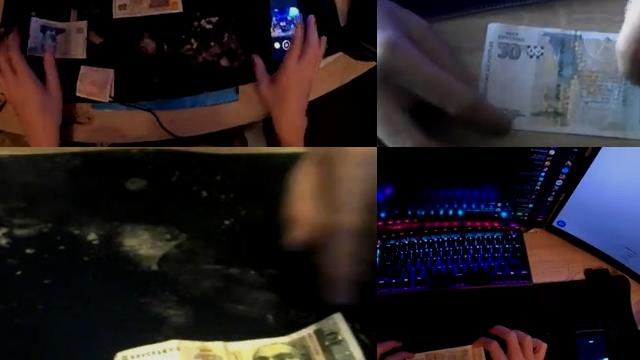20leva: (478, 23, 640, 141)
50leva: (112, 0, 184, 21), (408, 346, 486, 360)
